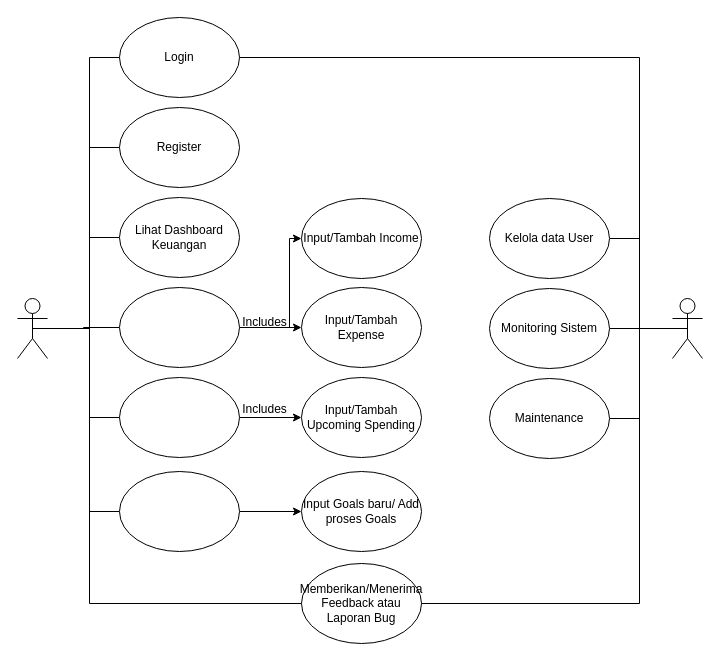
The diagram is 722 pixels wide and 661 high, and some of its shapes have lost their labels. The box of each missing label's shape, as (x1, y1, x2, y2) in pixels:
Admin: (672, 298, 702, 358)
Lihat Menu Goals: (118, 470, 240, 552)
Lihat Menu Spending: (118, 286, 240, 368)
Lihat Upcoming Spending: (118, 376, 240, 458)
User: (16, 298, 48, 358)
